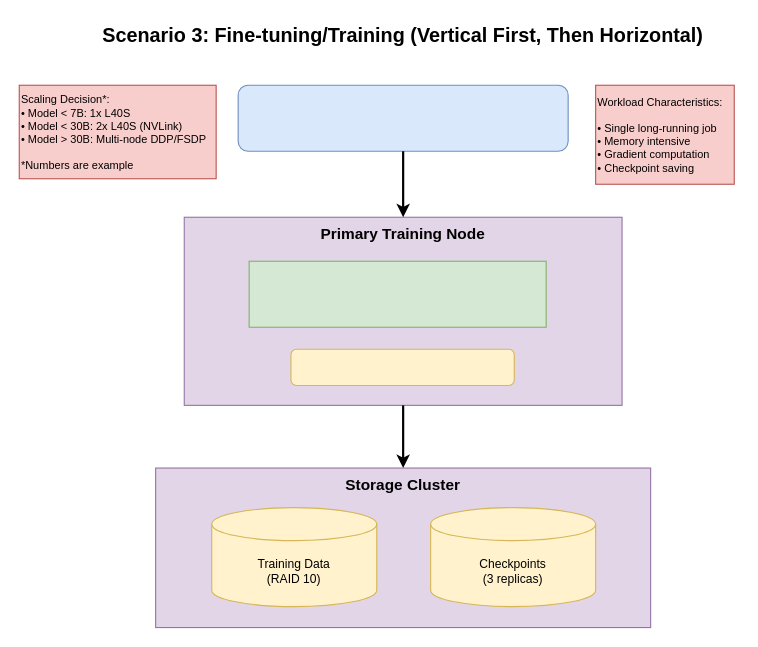
The diagram is 758 pixels wide and 647 high, and some of its shapes have lost their labels. The shapes that lost their labels are listed below. From the top down, each one's centre as x and y in pixels, then its label:
the point at 402,117: Training Orchestrator (Kubernetes + Kubeflow)
the point at 397,293: 2x L40S with NVLink 256GB RAM, 2TB NVMe
the point at 402,367: DeepSpeed / PyTorch Lightning
